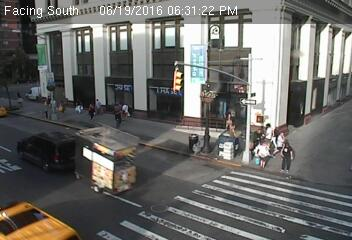neg: (216, 54, 237, 83), (212, 186, 232, 212), (208, 147, 227, 172), (223, 14, 242, 39), (37, 142, 55, 166), (193, 34, 209, 56), (160, 68, 176, 89), (135, 154, 151, 175), (168, 106, 183, 126), (326, 19, 341, 39), (68, 29, 83, 48), (249, 43, 263, 62), (155, 32, 169, 51), (257, 198, 271, 217), (183, 133, 197, 151), (289, 27, 302, 46), (93, 155, 106, 173), (300, 103, 313, 121), (36, 12, 49, 29), (289, 71, 302, 87), (13, 117, 25, 133), (19, 39, 31, 54), (108, 11, 119, 26), (311, 56, 322, 71), (48, 49, 59, 63), (174, 10, 185, 24), (118, 41, 128, 56), (262, 14, 272, 29), (21, 72, 28, 82)
pos: (278, 141, 298, 168), (52, 95, 68, 115), (120, 98, 135, 119), (91, 93, 105, 112), (112, 108, 126, 127), (71, 95, 85, 113), (85, 102, 97, 119), (263, 120, 274, 135)
